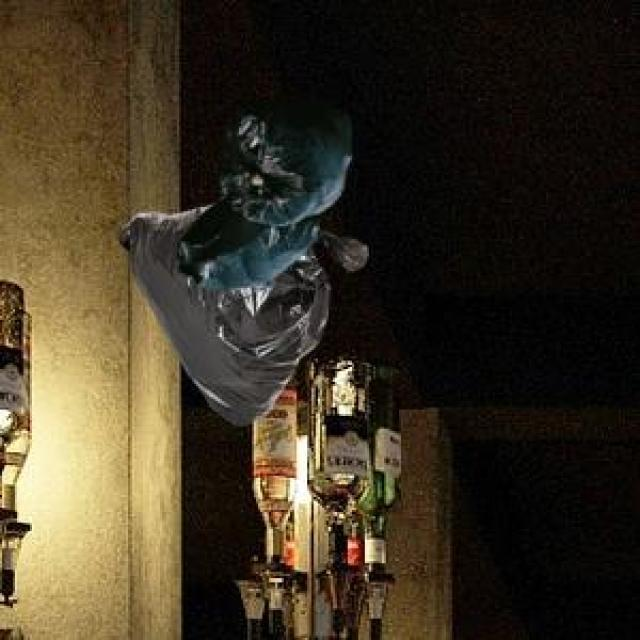miscellaneous trash: (115, 203, 365, 422), (173, 96, 348, 284)
